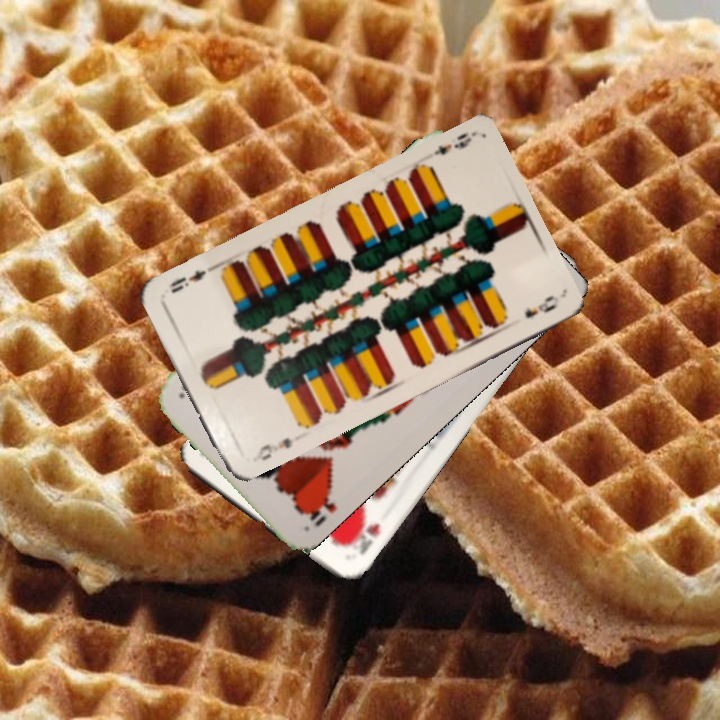E9: (248, 434, 295, 465), (429, 128, 475, 158)
HK: (343, 517, 383, 557)
HO: (297, 482, 340, 530)
